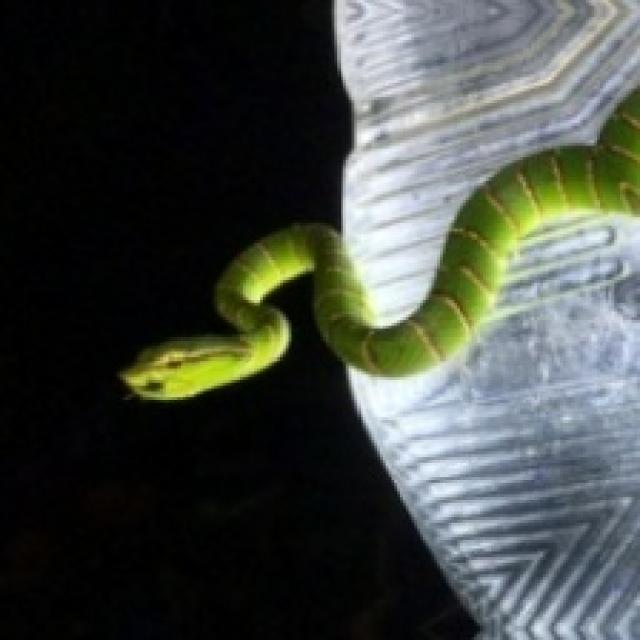north ph temple pitviper: (121, 88, 640, 399)
